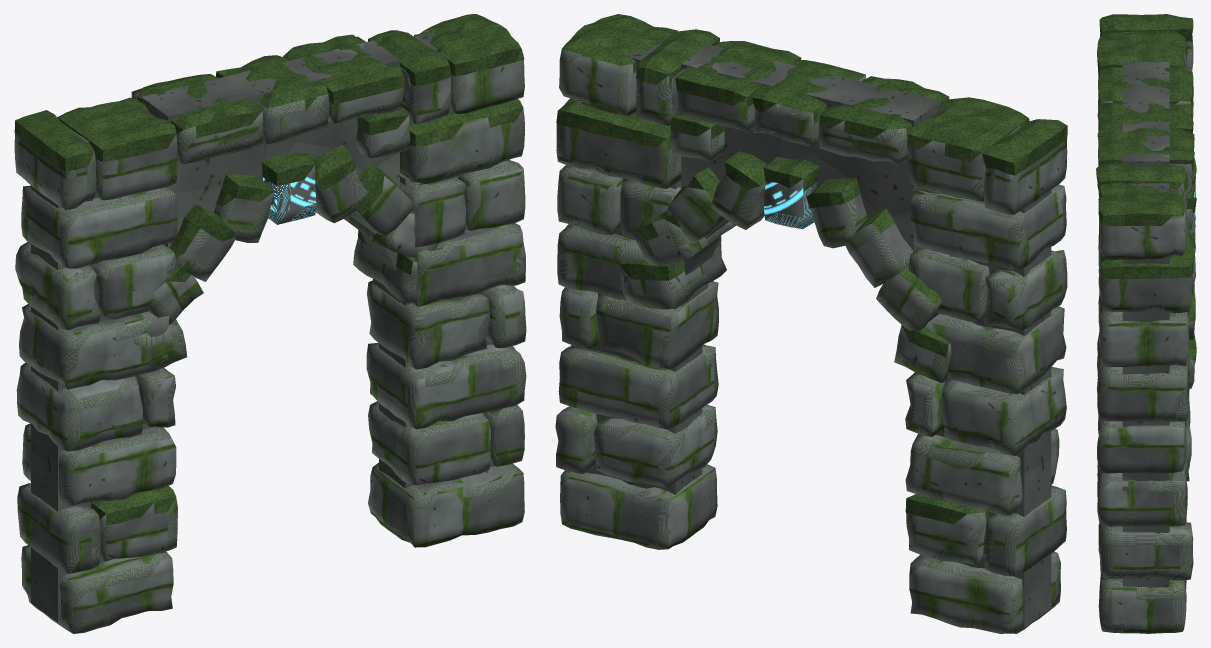
File: mod_wall_doorway_4m.glb
3 views of the same model, side by side, from view 1: azimuth 30°, elevation 25°; view 2: azimuth 150°, elevation 25°; view 3: azimuth 270°, elevation 25° (orthographic). The views are drawn at different scales.
Parts seen in each view (by area): view 1: mod_wall_doorway_4m__stone_wall, mod_wall_doorway_4m__moss, mod_wall_doorway_4m__stone_dark, mod_wall_doorway_4m__rune_stone; view 2: mod_wall_doorway_4m__stone_wall, mod_wall_doorway_4m__moss, mod_wall_doorway_4m__stone_dark, mod_wall_doorway_4m__rune_stone; view 3: mod_wall_doorway_4m__stone_wall, mod_wall_doorway_4m__moss, mod_wall_doorway_4m__stone_dark.
Part boxes in pixels (x1,y1,x2,y2): mod_wall_doorway_4m__stone_wall: (14,34,526,633); mod_wall_doorway_4m__moss: (14,14,524,524); mod_wall_doorway_4m__stone_dark: (31,33,509,622); mod_wall_doorway_4m__rune_stone: (263,165,316,224); mod_wall_doorway_4m__stone_wall: (555,41,1067,633); mod_wall_doorway_4m__moss: (556,14,1067,524); mod_wall_doorway_4m__stone_dark: (571,42,1051,627); mod_wall_doorway_4m__rune_stone: (764,179,816,229); mod_wall_doorway_4m__stone_wall: (1097,31,1195,633); mod_wall_doorway_4m__moss: (1096,14,1196,396); mod_wall_doorway_4m__stone_dark: (1122,31,1169,587).
Bounding box in the file's own units: 4.01 × 4.01 × 0.8581.
Materials: 4 (4 with a texture image).
